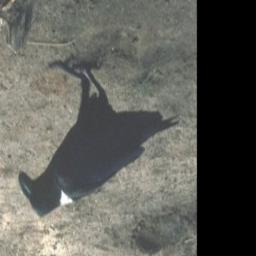Crow: (18, 56, 182, 221)
